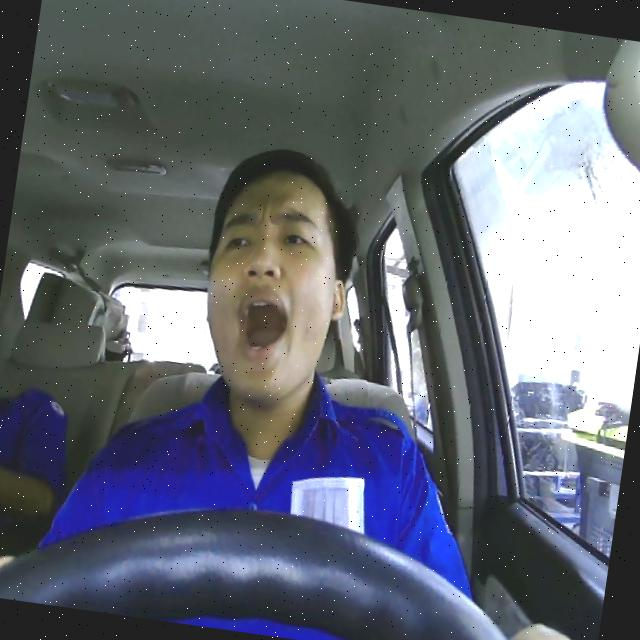yarning: (190, 164, 362, 408)
